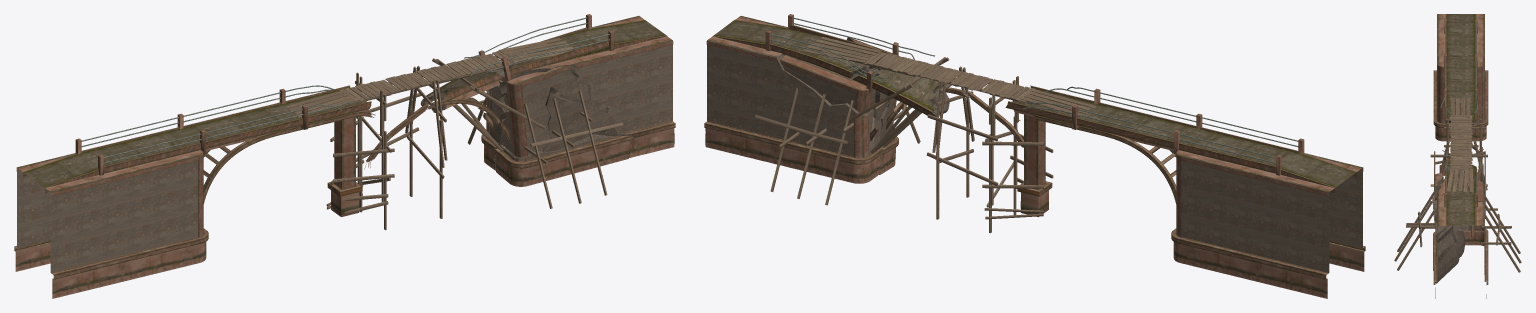
Rendered from broken_bridge.glb.
The picture shows the model from 3 angles, left to right: view 1: azimuth 30°, elevation 25°; view 2: azimuth 150°, elevation 25°; view 3: azimuth 270°, elevation 25°; orthographic projection. The views are drawn at different scales.
Parts seen in each view (by area): view 1: SM_Bridge_Long_Bridge Trim A_0, SM_Bridge_Long_Bridge Tile A_0, SM_Bridge_Long_Cracked_Wooden_ui2leaxlw_0, SM_Bridge_Long_inside_0; view 2: SM_Bridge_Long_Bridge Trim A_0, SM_Bridge_Long_Bridge Tile A_0, SM_Bridge_Long_Cracked_Wooden_ui2leaxlw_0, SM_Bridge_Long_inside_0; view 3: SM_Bridge_Long_Bridge Trim A_0, SM_Bridge_Long_Cracked_Wooden_ui2leaxlw_0, SM_Bridge_Long_inside_0, SM_Bridge_Long_Bridge Tile A_0.
Part boxes in pixels (left/top/right/bottom): SM_Bridge_Long_Bridge Trim A_0: left=14, top=14, right=675, bottom=298; SM_Bridge_Long_Bridge Tile A_0: left=17, top=45, right=672, bottom=272; SM_Bridge_Long_Cracked_Wooden_ui2leaxlw_0: left=284, top=38, right=623, bottom=230; SM_Bridge_Long_inside_0: left=420, top=16, right=674, bottom=170; SM_Bridge_Long_Bridge Trim A_0: left=704, top=14, right=1365, bottom=298; SM_Bridge_Long_Bridge Tile A_0: left=707, top=45, right=1362, bottom=272; SM_Bridge_Long_Cracked_Wooden_ui2leaxlw_0: left=755, top=37, right=1095, bottom=233; SM_Bridge_Long_inside_0: left=705, top=16, right=1030, bottom=183; SM_Bridge_Long_Bridge Trim A_0: left=1433, top=14, right=1488, bottom=284; SM_Bridge_Long_Cracked_Wooden_ui2leaxlw_0: left=1394, top=97, right=1521, bottom=272; SM_Bridge_Long_inside_0: left=1432, top=120, right=1488, bottom=298; SM_Bridge_Long_Bridge Tile A_0: left=1432, top=174, right=1484, bottom=274.
Size of the model in its own units: 48.81 by 10.8 by 12.43.
Materials: 5 (5 with a texture image).
